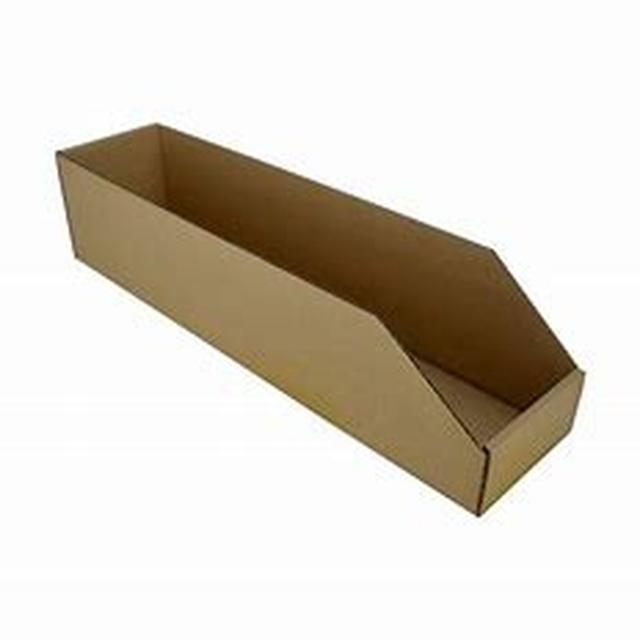box: (32, 101, 607, 512)
